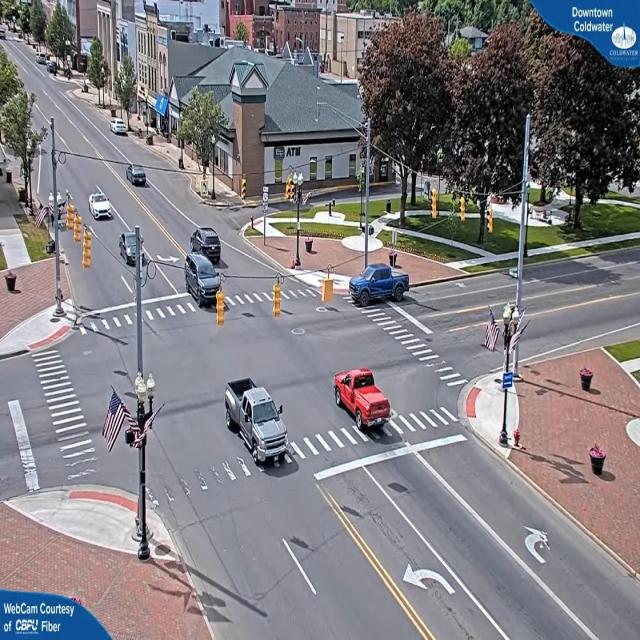car: (222, 378, 290, 472), (336, 368, 393, 430), (352, 267, 410, 306), (185, 259, 222, 304), (89, 189, 113, 222), (125, 165, 148, 187), (112, 121, 129, 136)
